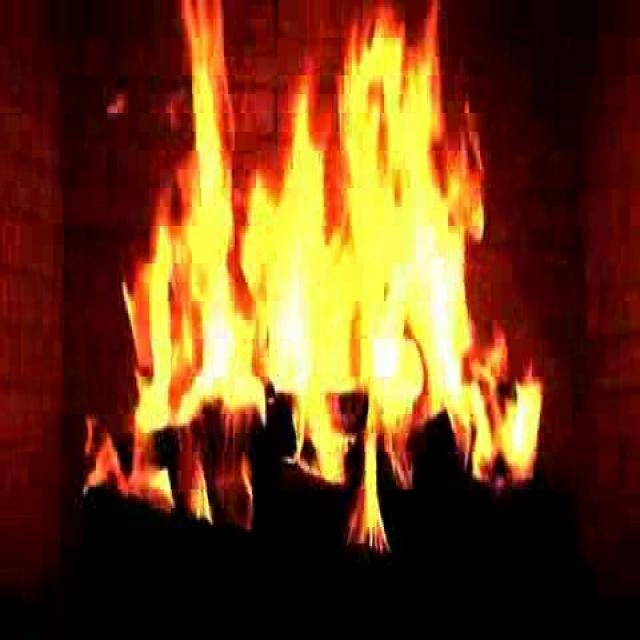Fire: (108, 31, 517, 530)
